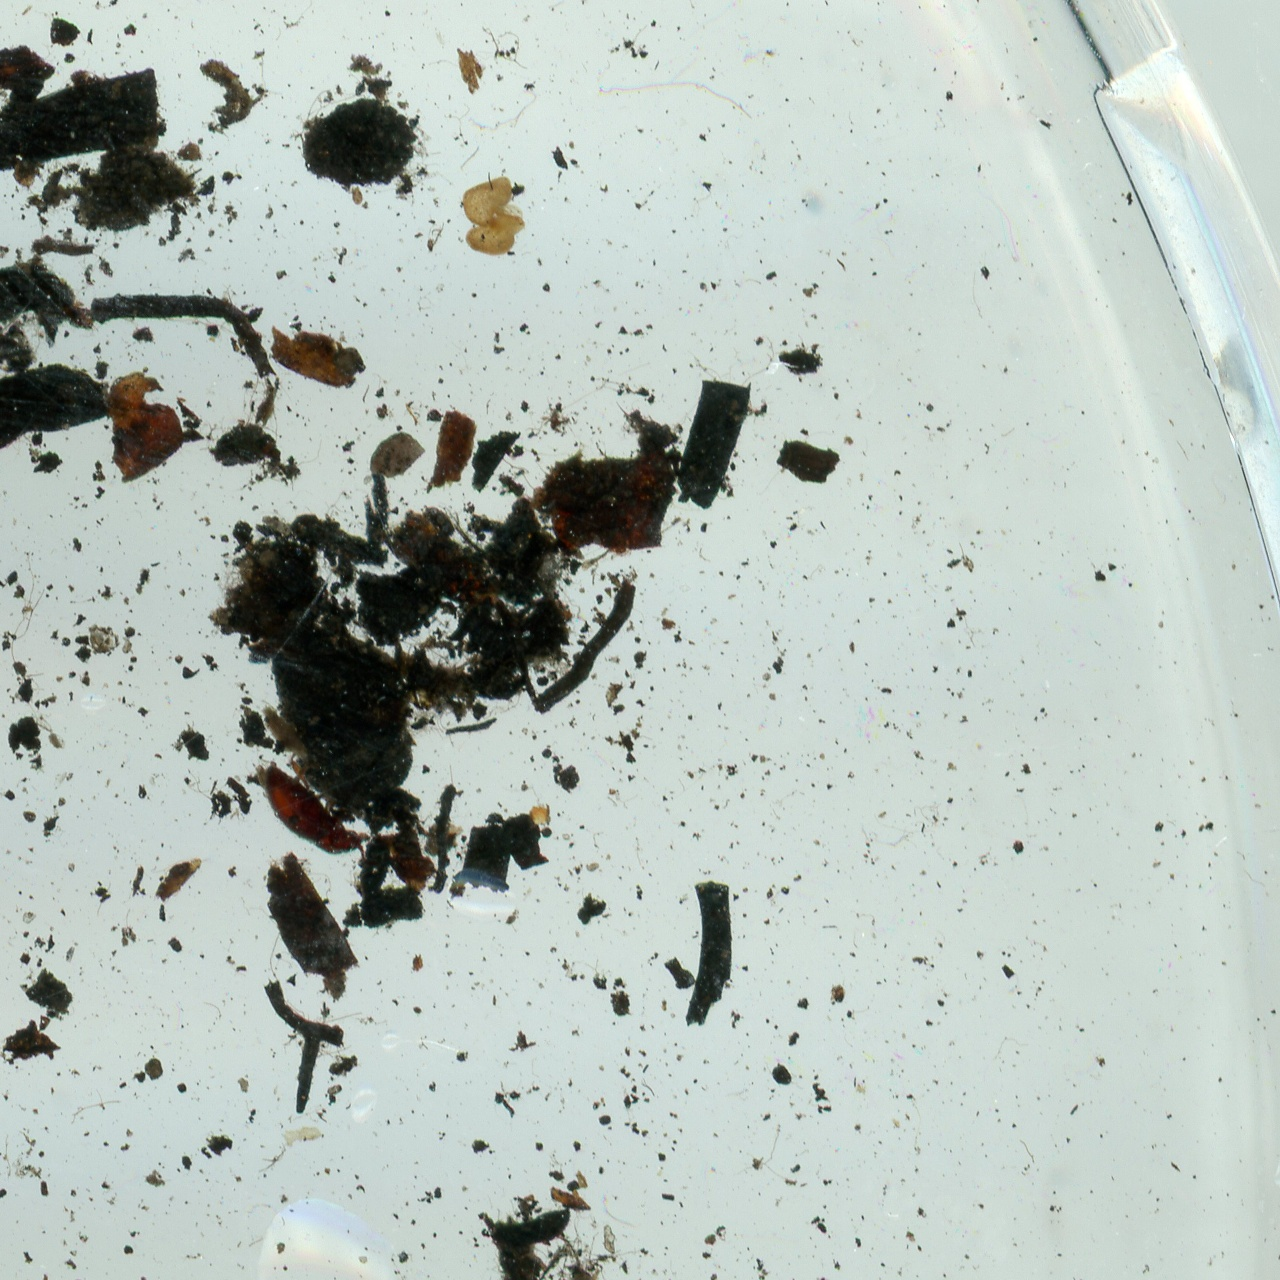arthropod: (232, 726, 395, 893)
